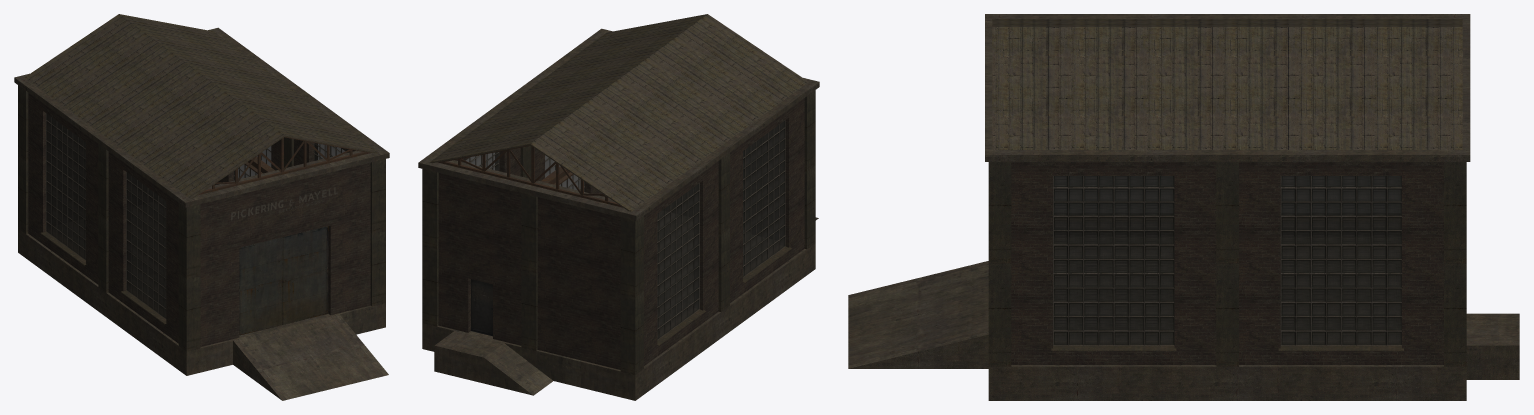
The model's file is warehouse_mx_1.glb.
The picture shows the model from 3 angles, left to right: view 1: azimuth 30°, elevation 25°; view 2: azimuth 150°, elevation 25°; view 3: azimuth 270°, elevation 25°; orthographic projection. The views are drawn at different scales.
Visible parts, largest first — view 1: warehouse_mx_1, garage_door_hr_4_piece_2, garage_door_hr_4_piece_1, building_sign_mx_1; view 2: warehouse_mx_1, door_hr_5; view 3: warehouse_mx_1.
Part boxes in pixels (bbox=[...]): warehouse_mx_1: bbox=[14, 14, 389, 400]; garage_door_hr_4_piece_2: bbox=[283, 226, 328, 324]; garage_door_hr_4_piece_1: bbox=[239, 237, 282, 335]; building_sign_mx_1: bbox=[231, 187, 337, 220]; warehouse_mx_1: bbox=[418, 14, 819, 400]; door_hr_5: bbox=[471, 279, 492, 336]; warehouse_mx_1: bbox=[848, 14, 1519, 400].
Size of the model in its own units: 8.8 by 8.87 by 17.7.
Materials: 12 (12 with a texture image).
